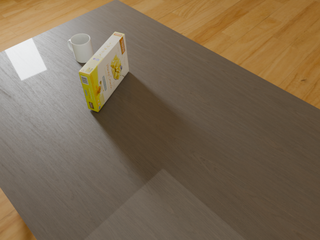box: (79, 32, 129, 112)
cup: (68, 34, 94, 63)
